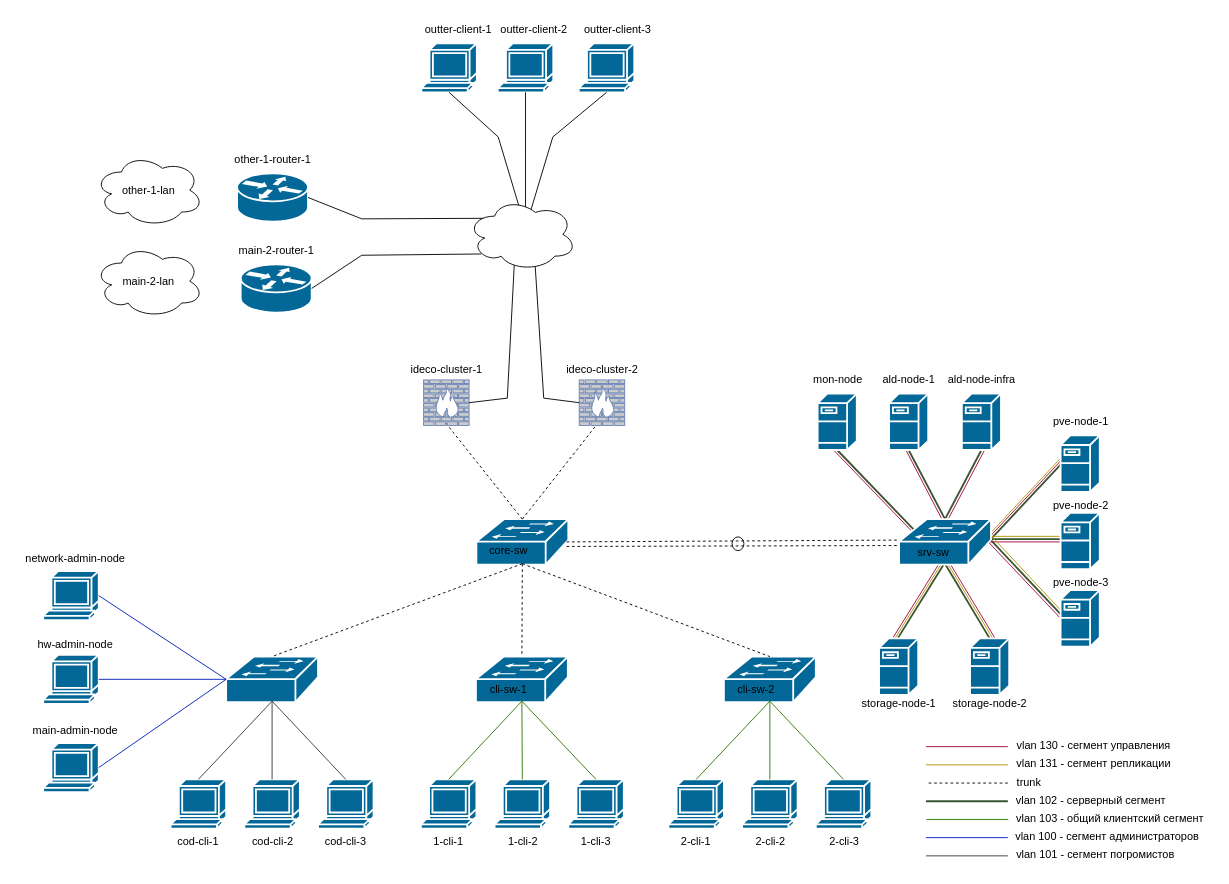
This 1229x884 diagram has some shape labels left out. Each missing label, with the centre of its shape:
cod-sw-1: (271,679)
OpenVPN: (521,234)
